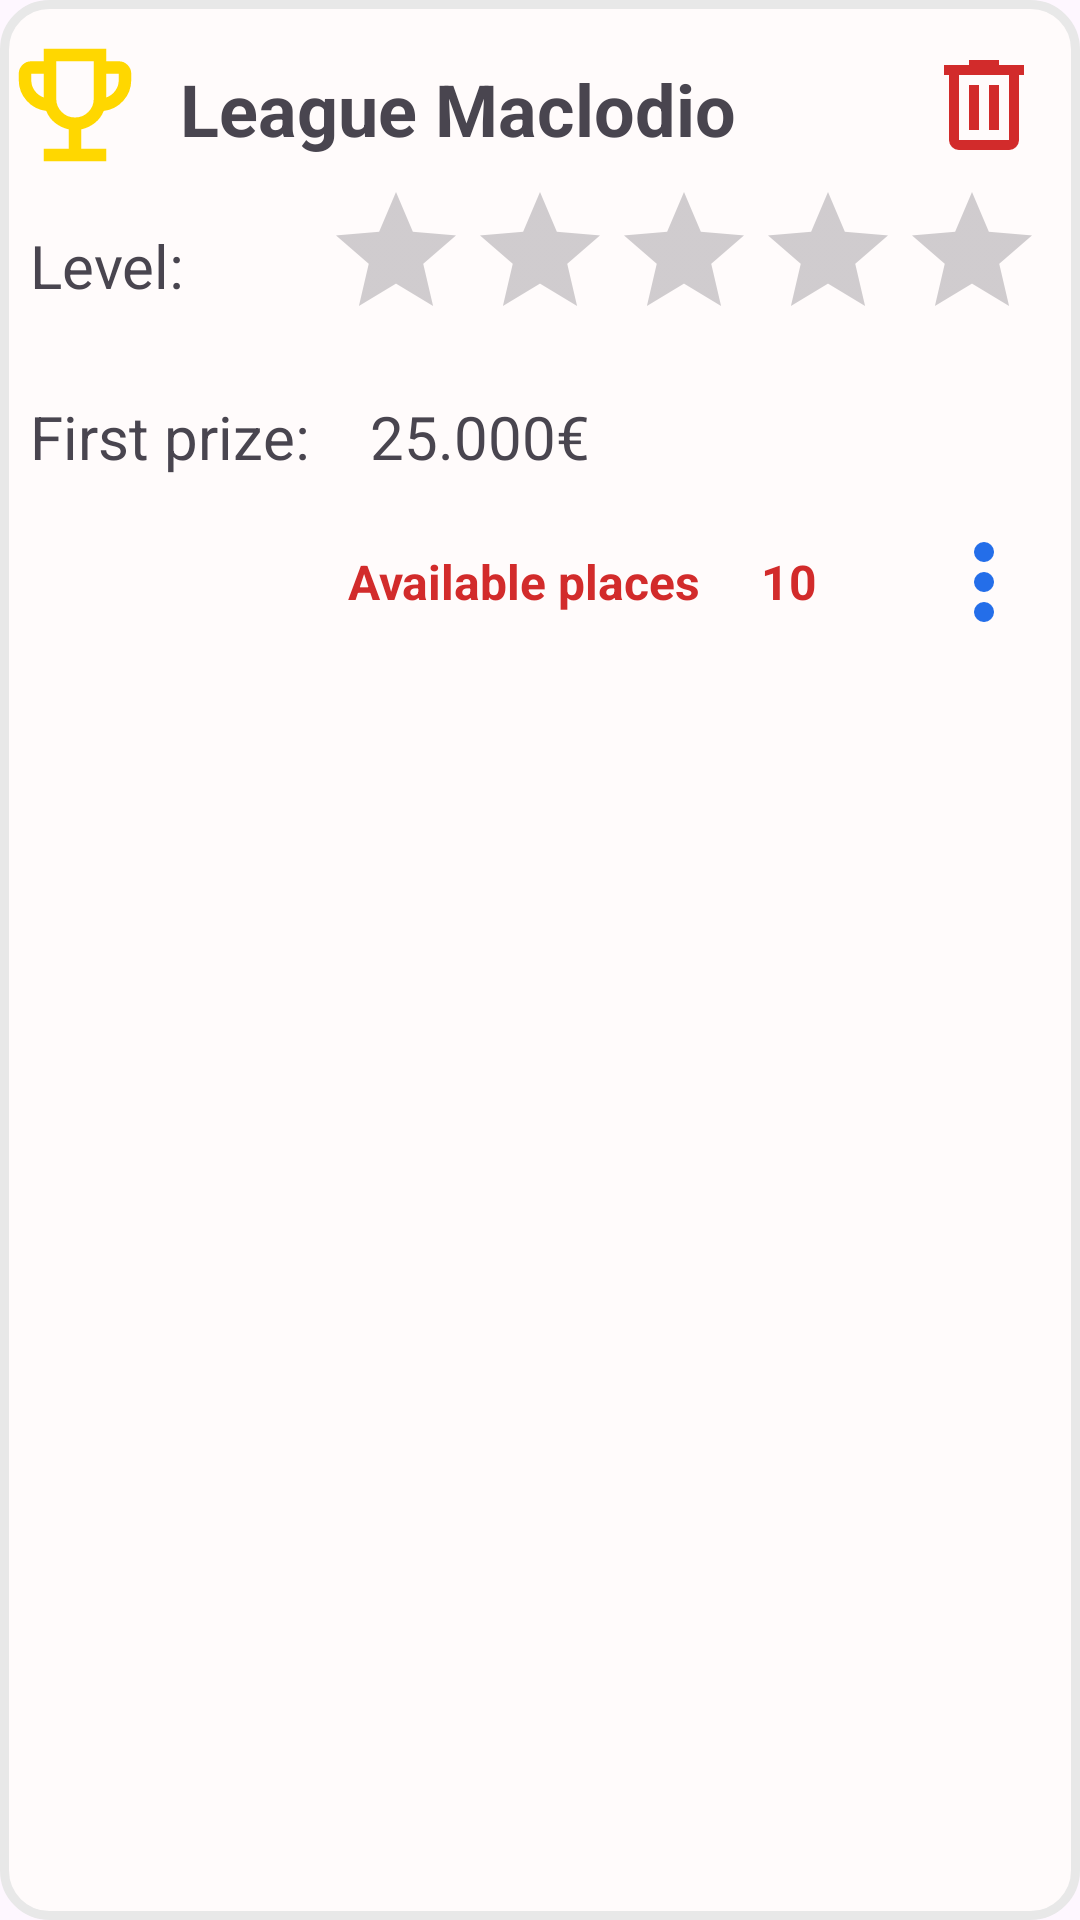

Icon click points for this 1080*1920 phone screenshot, format [x,y]:
bin: [984,105]
cup: [75,105]
more: [984,582]
